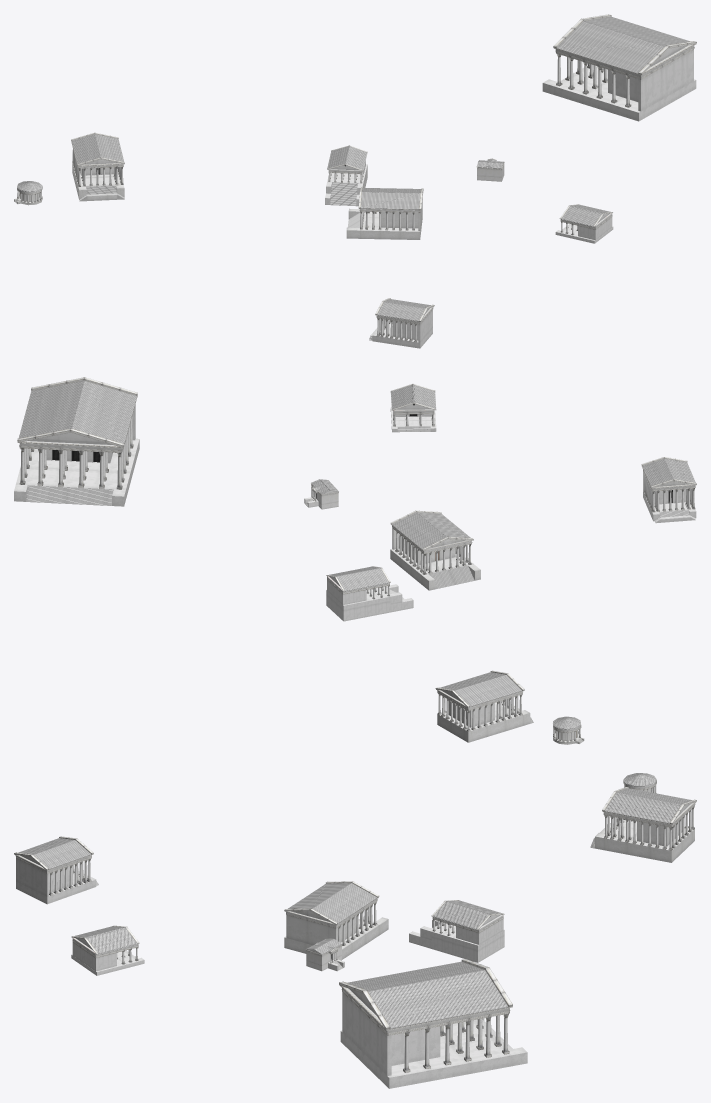
The model's file is ucla.fbx.
3 renders of one model, top to bottom at view 1: azimuth 30°, elevation 25°; view 2: azimuth 150°, elevation 25°; view 3: azimuth 270°, elevation 25°, orthographic. The views are drawn at different scales.
Visible parts, largest first — view 1: CityEngineMaterial_1_m[-65640], CityEngineMaterial_45_m[-65314], CityEngineMaterial_3_m[-65734], CityEngineMaterial_27_m[-65584], CityEngineMaterial_50_m[-65670], CityEngineMaterial_9_m[-65714], CityEngineMaterial_8_m[-65304], CityEngineMaterial_15_m[-65430], CityEngineMaterial_28_m[-65440], CityEngineMaterial_4_m[-65266], CityEngineMaterial_32_m[-65472], CityEngineMaterial_2_m[-65754] (+2 smaller); view 2: CityEngineMaterial_1_m[-65640], CityEngineMaterial_45_m[-65314], CityEngineMaterial_3_m[-65734], CityEngineMaterial_27_m[-65584], CityEngineMaterial_9_m[-65714], CityEngineMaterial_28_m[-65440], CityEngineMaterial_8_m[-65304], CityEngineMaterial_4_m[-65266], CityEngineMaterial_15_m[-65430], CityEngineMaterial_39_m[-65420], CityEngineMaterial_24_m[-65524], CityEngineMaterial_34_m[-65372] (+3 smaller); view 3: CityEngineMaterial_1_m[-65640], CityEngineMaterial_45_m[-65314], CityEngineMaterial_3_m[-65734], CityEngineMaterial_50_m[-65670], CityEngineMaterial_27_m[-65584], CityEngineMaterial_9_m[-65714], CityEngineMaterial_28_m[-65440], CityEngineMaterial_2_m[-65754], CityEngineMaterial_8_m[-65304], CityEngineMaterial_15_m[-65430], CityEngineMaterial_39_m[-65420], CityEngineMaterial_4_m[-65266] (+6 smaller).
Part boxes in pixels (x1=…): CityEngineMaterial_1_m[-65640]: x1=325, y1=65, x2=696, y2=348; CityEngineMaterial_45_m[-65314]: x1=477, y1=16, x2=689, y2=168; CityEngineMaterial_3_m[-65734]: x1=71, y1=134, x2=430, y2=321; CityEngineMaterial_27_m[-65584]: x1=72, y1=163, x2=422, y2=239; CityEngineMaterial_50_m[-65670]: x1=608, y1=45, x2=693, y2=111; CityEngineMaterial_9_m[-65714]: x1=328, y1=57, x2=629, y2=340; CityEngineMaterial_8_m[-65304]: x1=17, y1=47, x2=694, y2=324; CityEngineMaterial_15_m[-65430]: x1=17, y1=181, x2=610, y2=226; CityEngineMaterial_28_m[-65440]: x1=80, y1=167, x2=422, y2=230; CityEngineMaterial_4_m[-65266]: x1=71, y1=132, x2=434, y2=321; CityEngineMaterial_32_m[-65472]: x1=71, y1=43, x2=696, y2=322; CityEngineMaterial_2_m[-65754]: x1=329, y1=154, x2=432, y2=342; CityEngineMaterial_1_m[-65640]: x1=14, y1=407, x2=696, y2=621; CityEngineMaterial_45_m[-65314]: x1=18, y1=380, x2=338, y2=494; CityEngineMaterial_3_m[-65734]: x1=329, y1=458, x2=695, y2=706; CityEngineMaterial_27_m[-65584]: x1=390, y1=548, x2=533, y2=742; CityEngineMaterial_9_m[-65714]: x1=20, y1=414, x2=694, y2=598; CityEngineMaterial_28_m[-65440]: x1=392, y1=528, x2=494, y2=727; CityEngineMaterial_8_m[-65304]: x1=19, y1=412, x2=695, y2=732; CityEngineMaterial_4_m[-65266]: x1=326, y1=457, x2=696, y2=707; CityEngineMaterial_15_m[-65430]: x1=391, y1=385, x2=580, y2=729; CityEngineMaterial_39_m[-65420]: x1=438, y1=695, x2=521, y2=730; CityEngineMaterial_24_m[-65524]: x1=17, y1=377, x2=580, y2=742; CityEngineMaterial_34_m[-65372]: x1=396, y1=533, x2=470, y2=573; CityEngineMaterial_1_m[-65640]: x1=16, y1=869, x2=527, y2=1088; CityEngineMaterial_45_m[-65314]: x1=306, y1=938, x2=508, y2=1028; CityEngineMaterial_3_m[-65734]: x1=19, y1=788, x2=691, y2=929; CityEngineMaterial_50_m[-65670]: x1=342, y1=987, x2=440, y2=1075; CityEngineMaterial_27_m[-65584]: x1=284, y1=817, x2=694, y2=959; CityEngineMaterial_9_m[-65714]: x1=49, y1=861, x2=507, y2=1070; CityEngineMaterial_28_m[-65440]: x1=286, y1=803, x2=692, y2=945; CityEngineMaterial_2_m[-65754]: x1=16, y1=856, x2=503, y2=944; CityEngineMaterial_8_m[-65304]: x1=16, y1=782, x2=695, y2=1035; CityEngineMaterial_15_m[-65430]: x1=74, y1=773, x2=656, y2=953; CityEngineMaterial_39_m[-65420]: x1=605, y1=809, x2=693, y2=849; CityEngineMaterial_4_m[-65266]: x1=14, y1=787, x2=696, y2=945.
Bounding box in the file's own units: 402 × 71.63 × 324.
